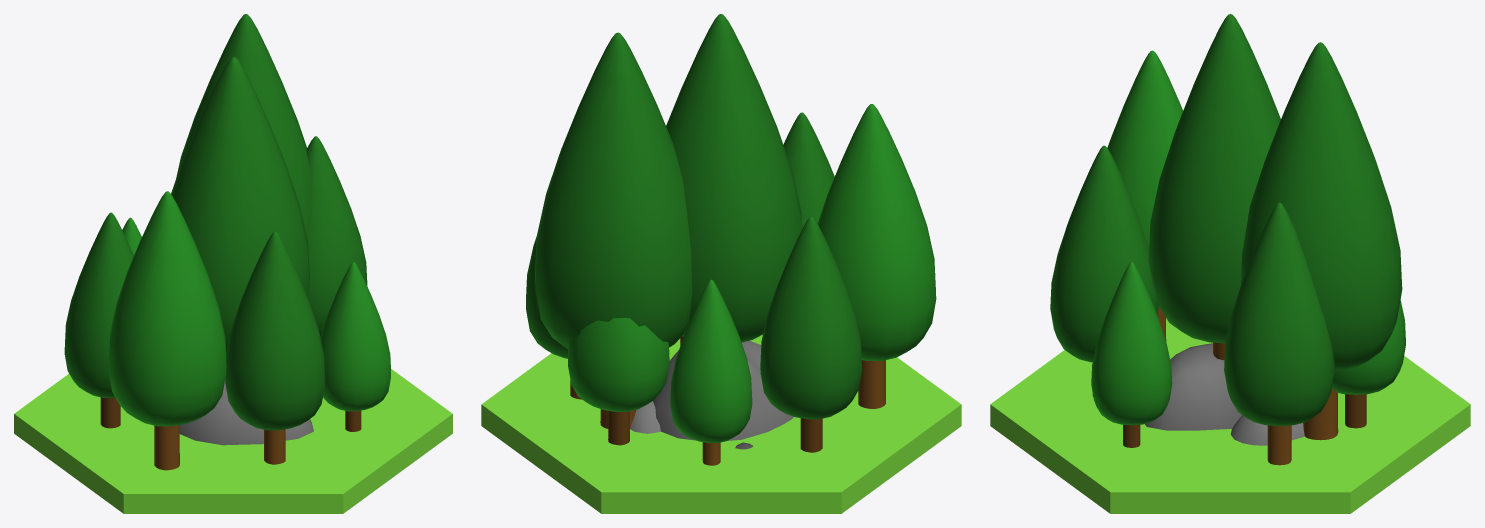
The model's file is HexTiles.fbx.
3 renders of one model, left to right at view 1: azimuth 30°, elevation 25°; view 2: azimuth 150°, elevation 25°; view 3: azimuth 270°, elevation 25°, orthographic. The views are drawn at different scales.
Parts seen in each view (by area): view 1: Forest, HexTile, Tree_01, Tree_02, Rock; view 2: Forest, HexTile, Tree_02, Tree_01, Rock, Rocks; view 3: Forest, HexTile, Tree_02, Tree_01, Rock, Rocks.
Boxes of the visible parts, x1,y1,x2,y2 form: Forest: [64, 61, 390, 470]; HexTile: [14, 369, 452, 513]; Tree_01: [171, 57, 309, 354]; Tree_02: [176, 14, 310, 241]; Rock: [179, 380, 313, 445]; Forest: [526, 17, 936, 465]; HexTile: [481, 334, 961, 513]; Tree_02: [535, 32, 692, 428]; Tree_01: [666, 14, 802, 338]; Rock: [653, 340, 793, 440]; Rocks: [630, 401, 752, 449]; Forest: [1050, 18, 1405, 465]; HexTile: [990, 318, 1470, 513]; Tree_02: [1241, 42, 1402, 440]; Tree_01: [1148, 14, 1280, 360]; Rock: [1145, 343, 1241, 430]; Rocks: [1230, 415, 1304, 445].
Size of the model in its own units: 173 by 189 by 200.
